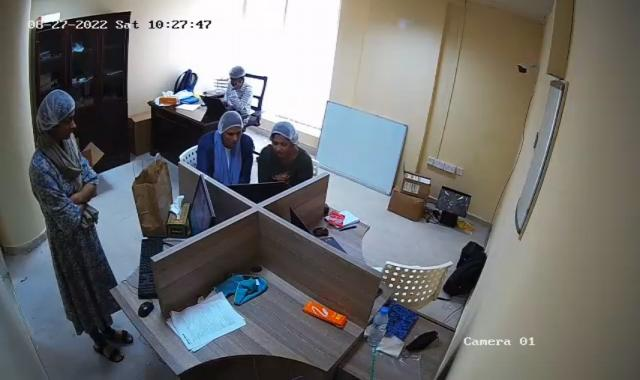hairnet: (33, 86, 81, 135), (215, 110, 246, 140), (267, 120, 300, 148), (227, 65, 251, 84)
